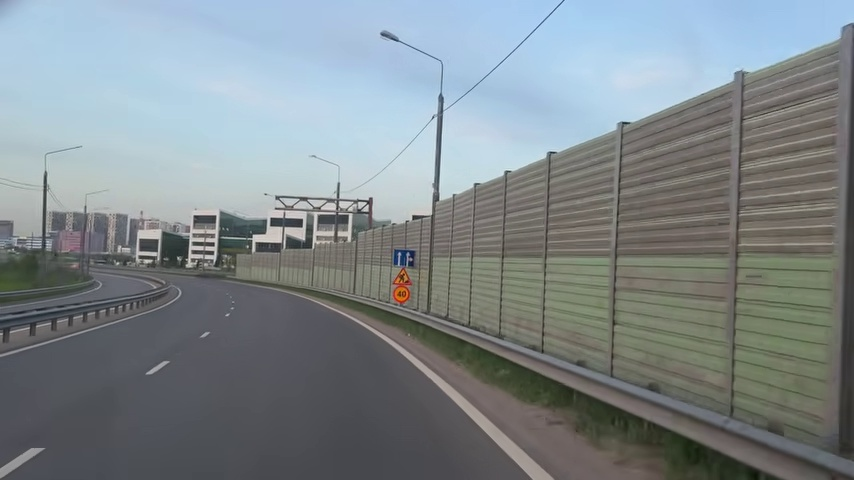apagada: (377, 27, 399, 47), (308, 151, 321, 164)
